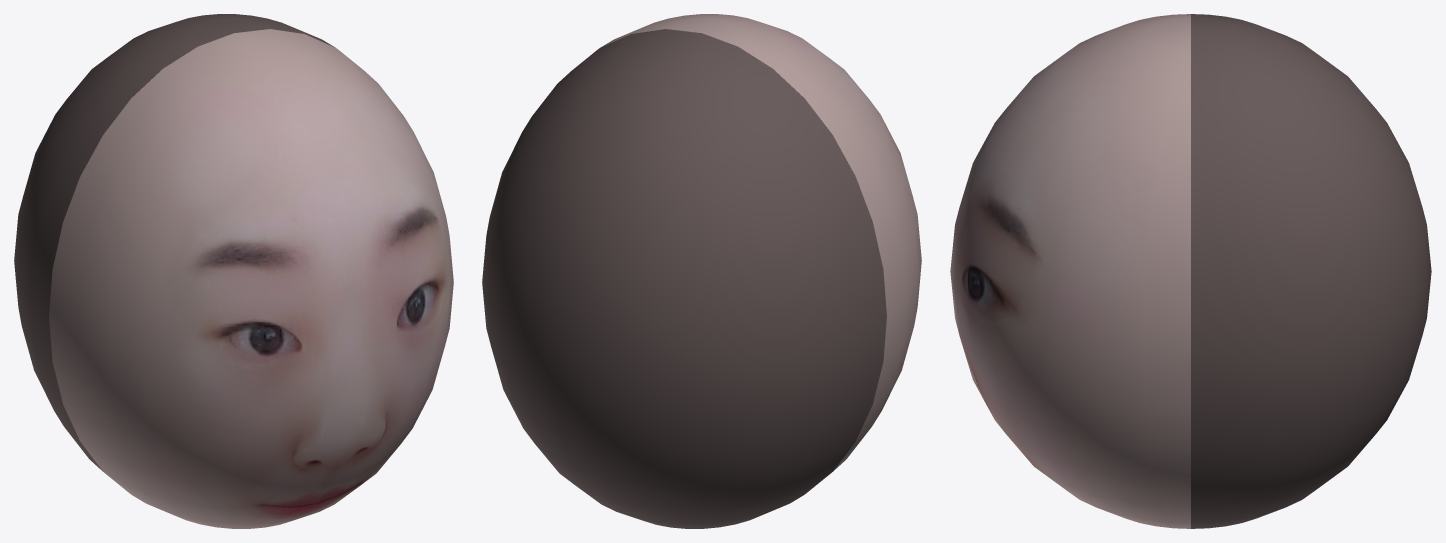
The model's file is ddd.FBX.
3 views of the same model, side by side, from view 1: azimuth 30°, elevation 25°; view 2: azimuth 150°, elevation 25°; view 3: azimuth 270°, elevation 25° (orthographic).
Visible parts, largest first — view 1: Sphere001, Sphere002; view 2: Sphere002, Sphere001; view 3: Sphere001, Sphere002.
Part boxes in pixels (x1,y1,x2,y2): Sphere001: (49, 29, 453, 528); Sphere002: (14, 14, 335, 471); Sphere002: (482, 29, 886, 528); Sphere001: (600, 14, 921, 471); Sphere001: (950, 14, 1190, 528); Sphere002: (1191, 14, 1431, 528).
Bounding box in the file's own units: 4.24 × 5.22 × 4.72.
Materials: 2 (2 with a texture image).
